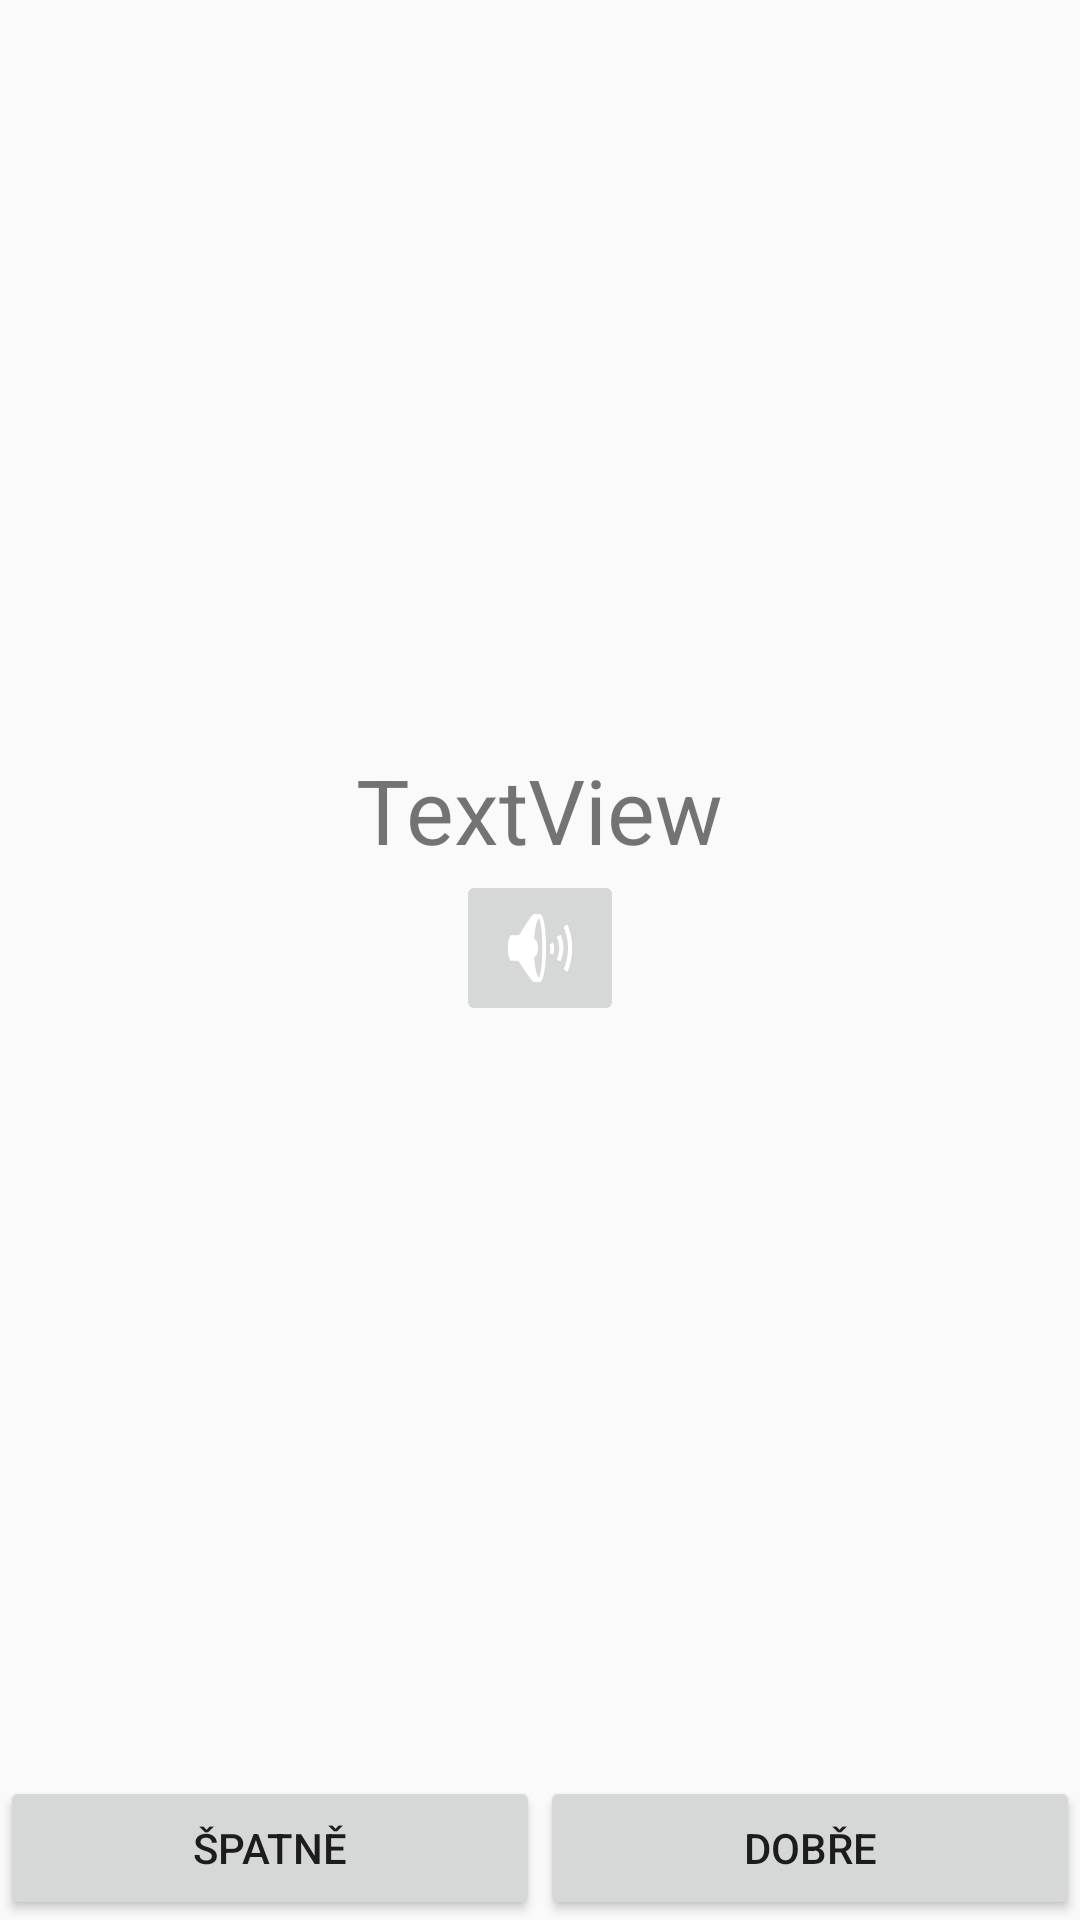

Point at icon controls on the screen. Image size 1080px x 1920px, points as [x,y].
lock silent mode off: [540,948]
